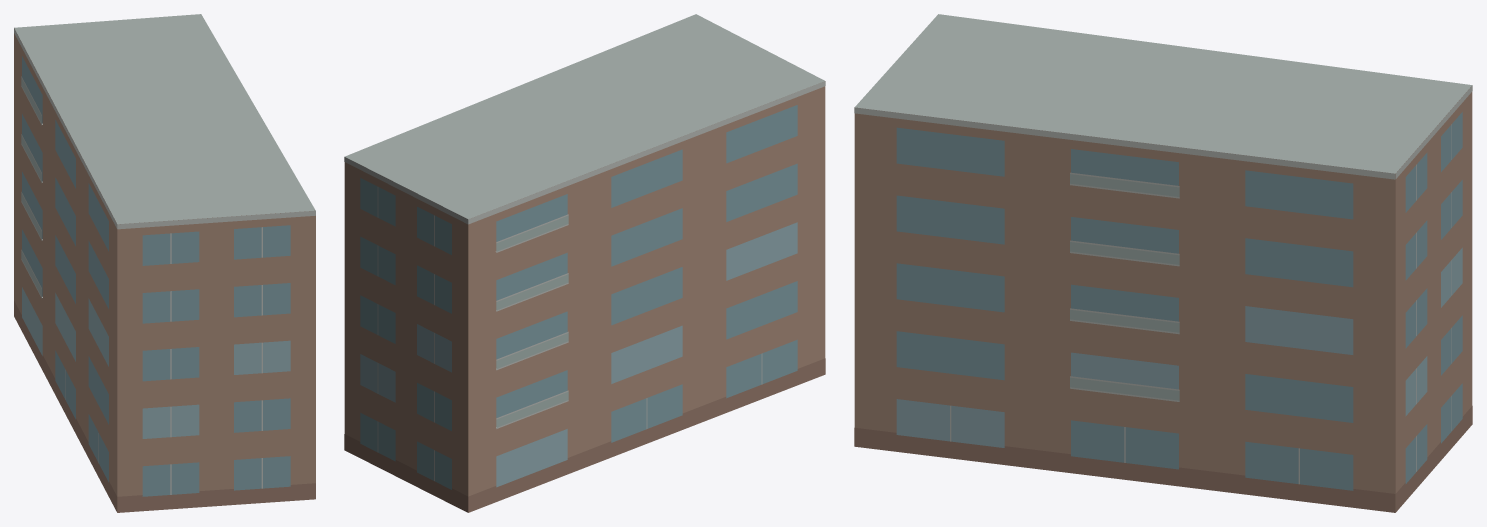
File: survey-upis-32868390.glb
The picture shows the model from 3 angles, left to right: view 1: azimuth 30°, elevation 25°; view 2: azimuth 150°, elevation 25°; view 3: azimuth 270°, elevation 25°; orthographic projection. The views are drawn at different scales.
Visible parts, largest first — view 1: survey-upis-32868390.tmp; view 2: survey-upis-32868390.tmp; view 3: survey-upis-32868390.tmp.
Boxes of the visible parts, x1=… form: survey-upis-32868390.tmp: x1=14, y1=14, x2=315, y2=512; survey-upis-32868390.tmp: x1=344, y1=14, x2=825, y2=512; survey-upis-32868390.tmp: x1=854, y1=14, x2=1472, y2=512.
Bounding box in the file's own units: 13.94 × 13.8 × 22.79.
